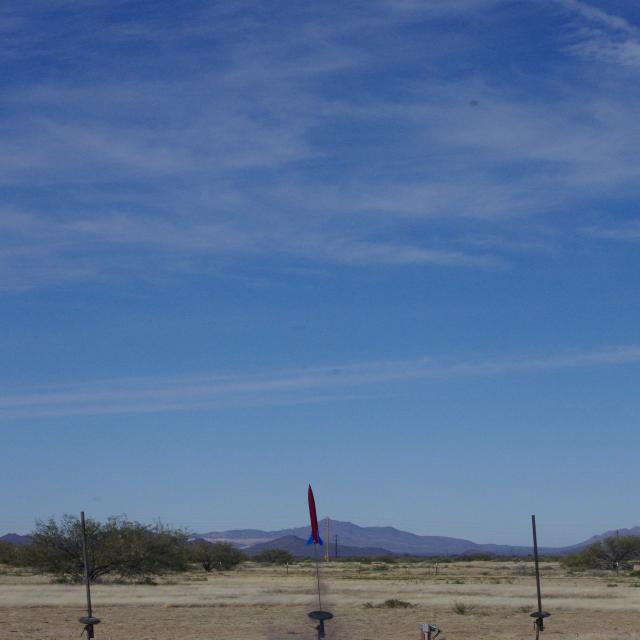Rocket: (307, 484, 325, 547)
